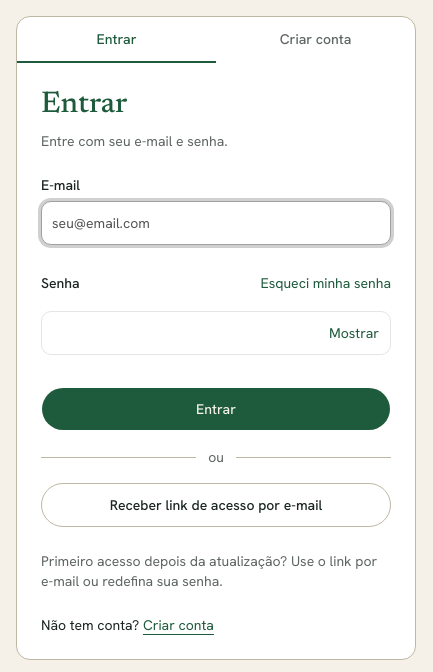
Test: EntrarForm (AUTH-05) › Mostrar alterna o campo de senha entre password e text
The width and height of the screenshot is (433, 672).
Click the button "Mostrar": (354,333) [317,311,391,355]
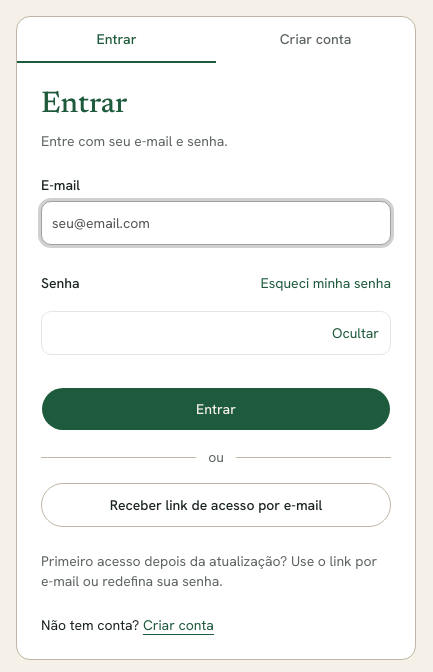
Expected: the button "Ocultar" is shown, [320,311,391,355]
